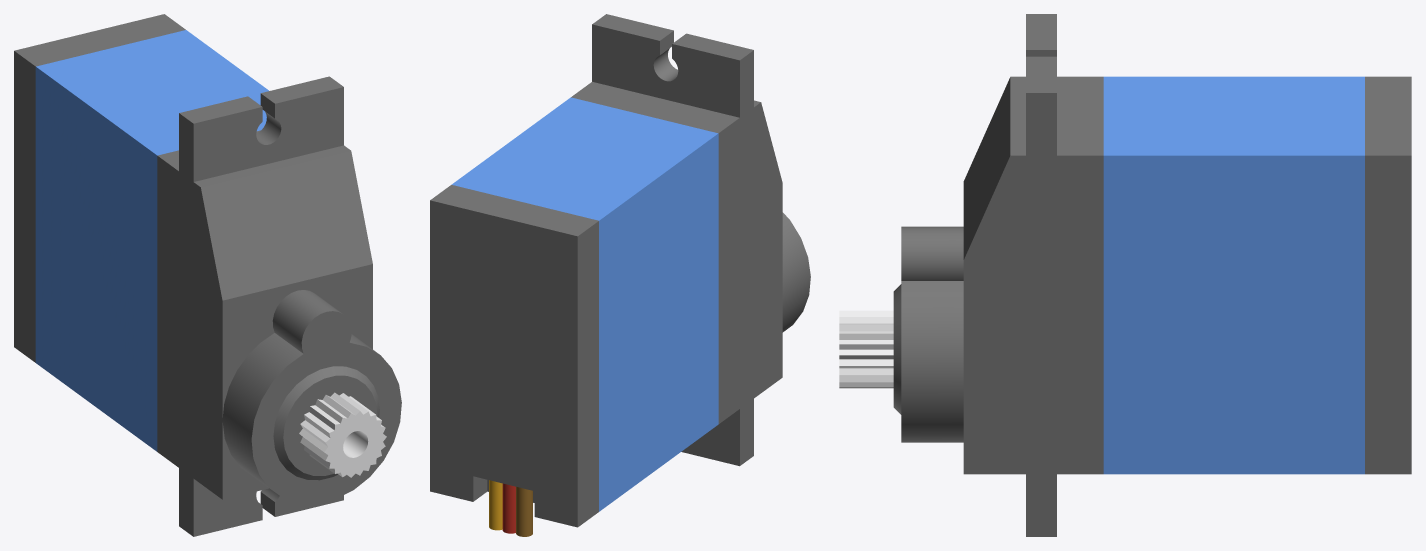
Rendered from adafruit_mg923b.glb.
3 renders of one model, left to right at view 1: azimuth 30°, elevation 25°; view 2: azimuth 150°, elevation 25°; view 3: azimuth 270°, elevation 25°, orthographic. The views are drawn at different scales.
Parts seen in each view (by area): view 1: body:1, spline:1; view 2: body:1; view 3: body:1, spline:1.
Part boxes in pixels (x1=…): body:1: x1=14, y1=14, x2=401, y2=536; spline:1: x1=299, y1=392, x2=386, y2=477; body:1: x1=430, y1=14, x2=810, y2=536; body:1: x1=893, y1=14, x2=1411, y2=536; spline:1: x1=839, y1=310, x2=893, y2=388.
Bounding box in the file's own units: 0.012 × 0.0315 × 0.0368.
